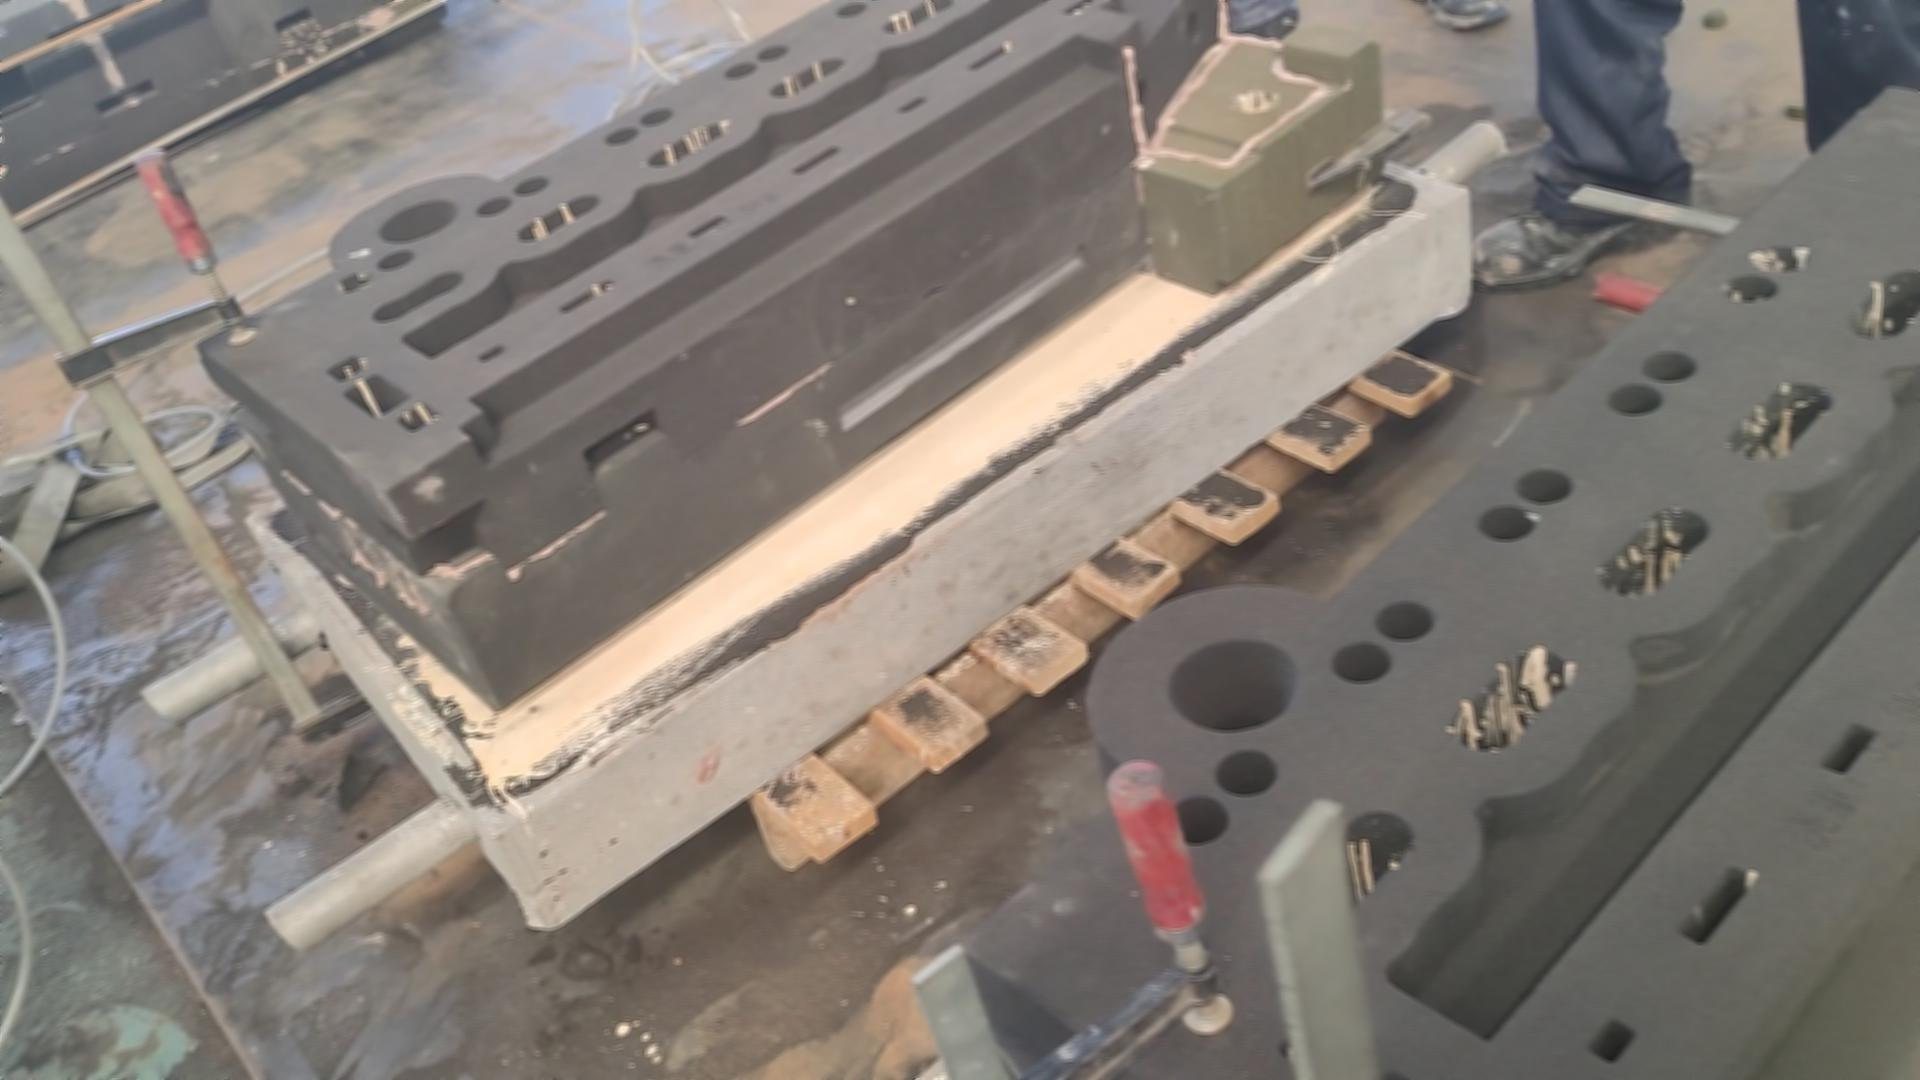pouring hole: (1168, 638, 1299, 732), (378, 199, 458, 243)
